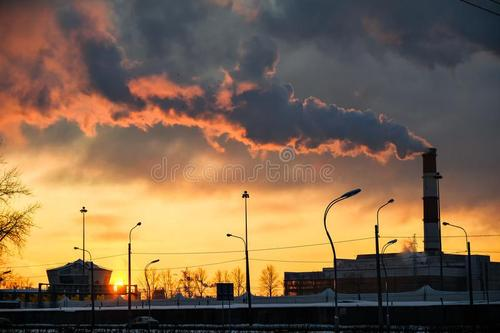smoke: (62, 70, 422, 170)
